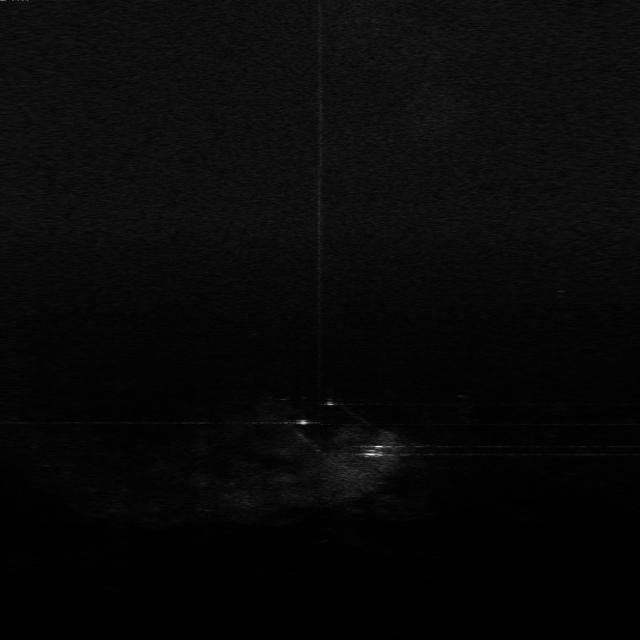rov: (361, 442, 388, 460)
